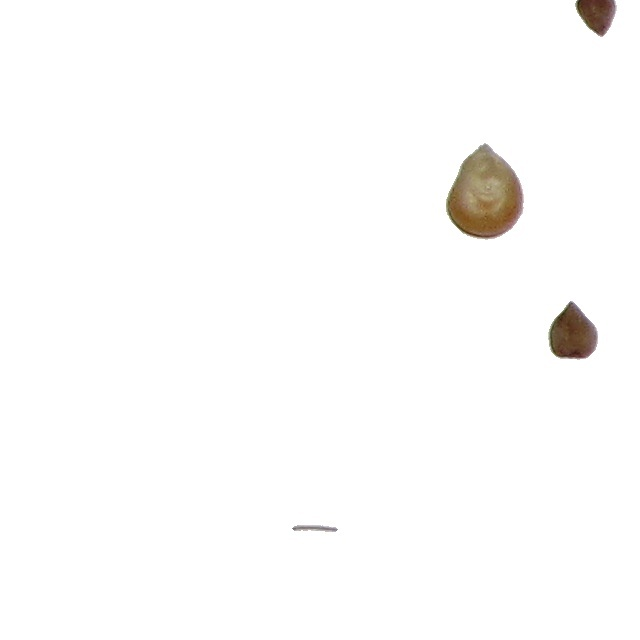buckwheat: (547, 300, 599, 361)
dill: (291, 524, 339, 533)
mais: (445, 142, 525, 241)
